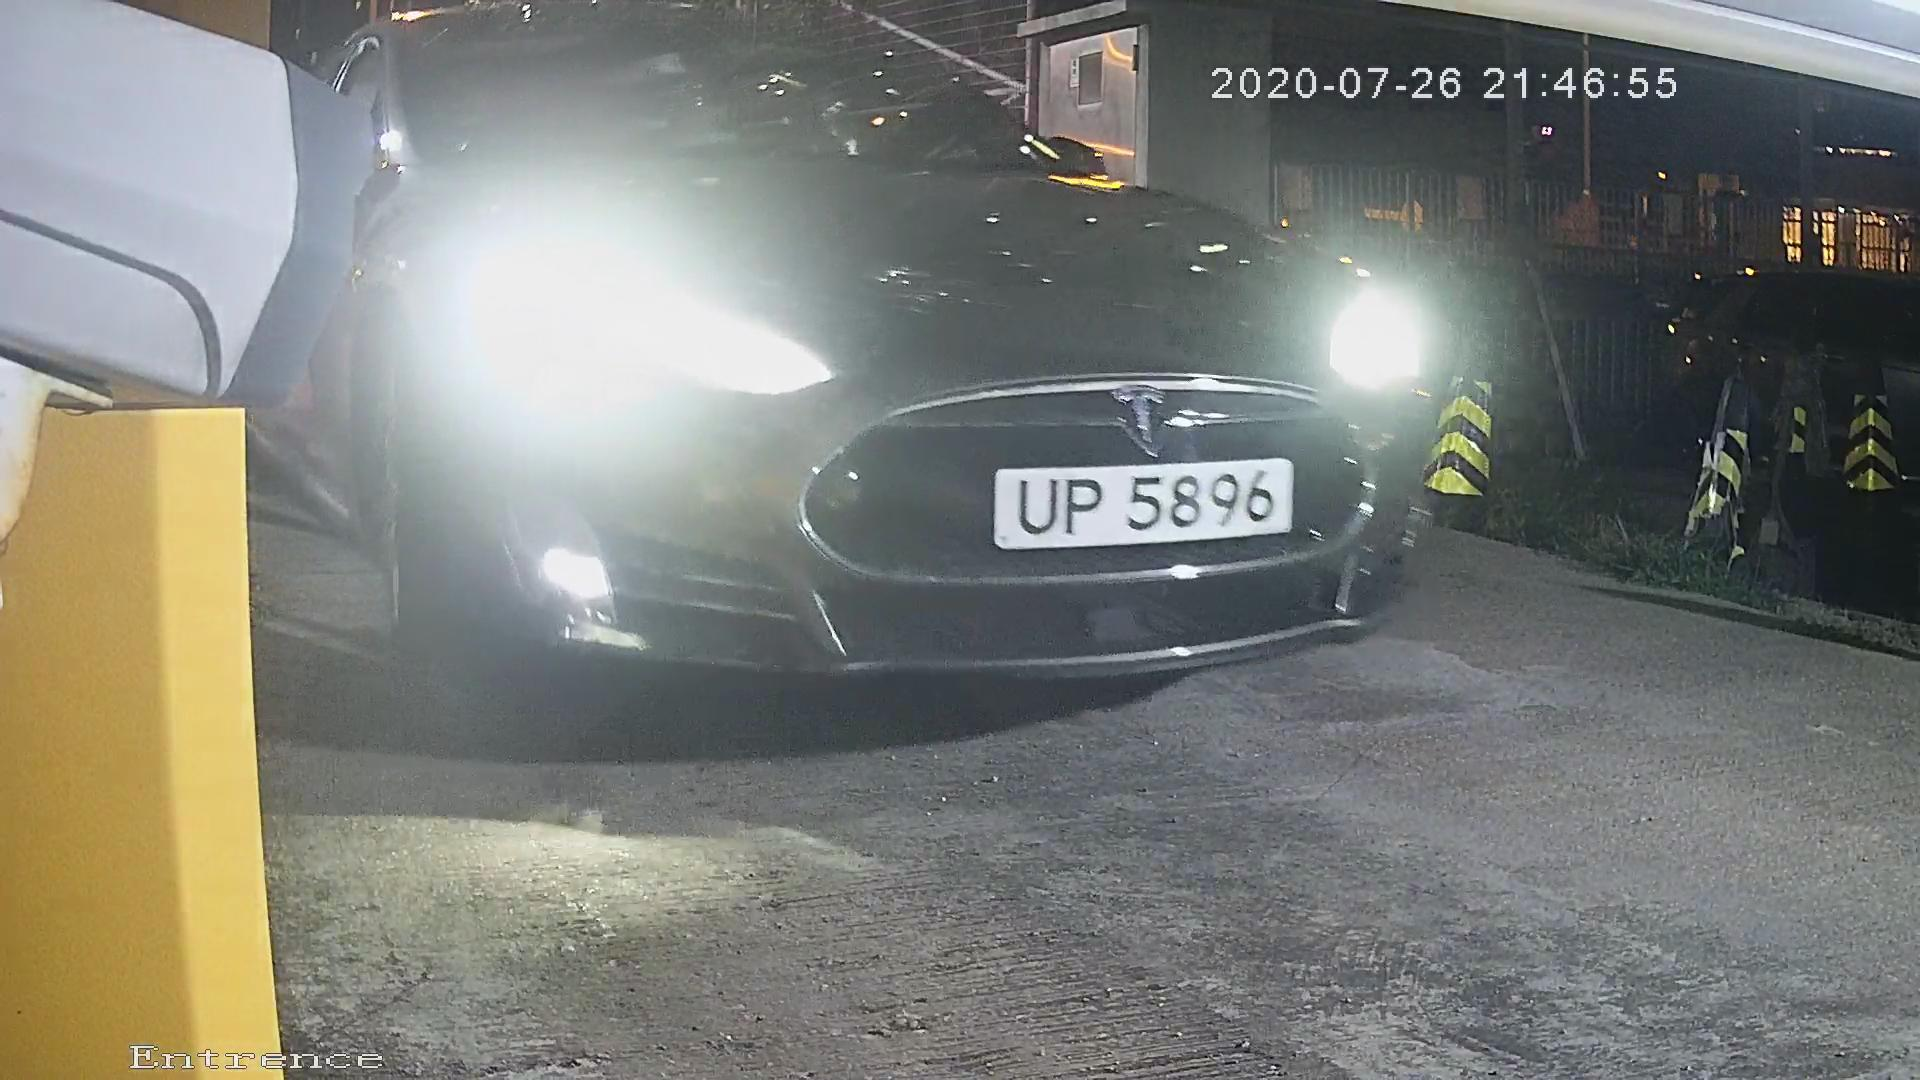License Plate: (952, 449, 1312, 550)
